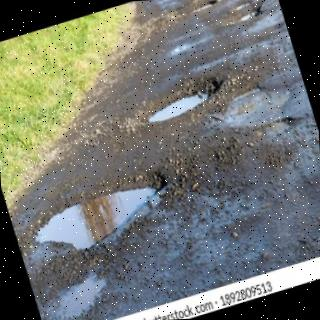pothole: (36, 172, 167, 249), (148, 81, 219, 124), (228, 82, 292, 117), (224, 8, 261, 25), (192, 0, 218, 13)
